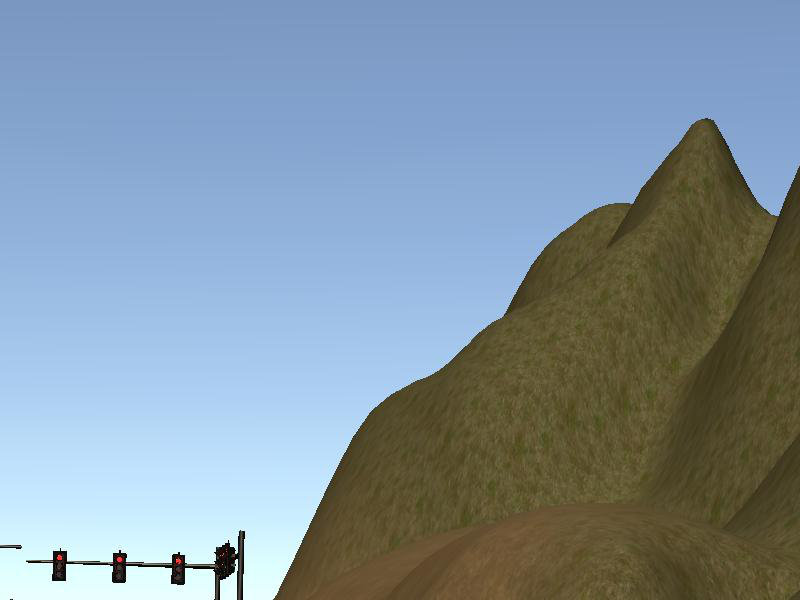red: (51, 549, 68, 582), (171, 551, 186, 587), (111, 553, 127, 584)
